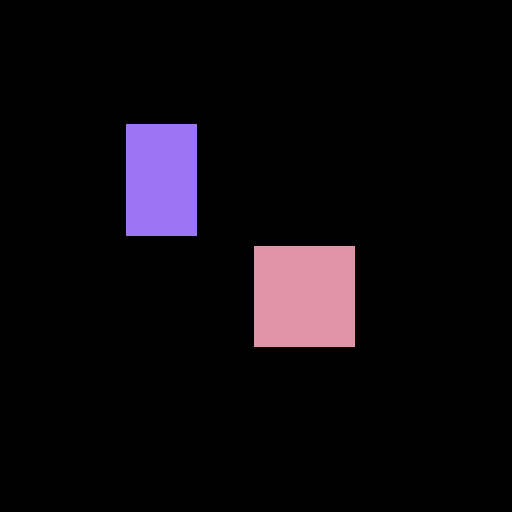rectangle: (126, 124, 196, 235)
square: (254, 246, 354, 346)
